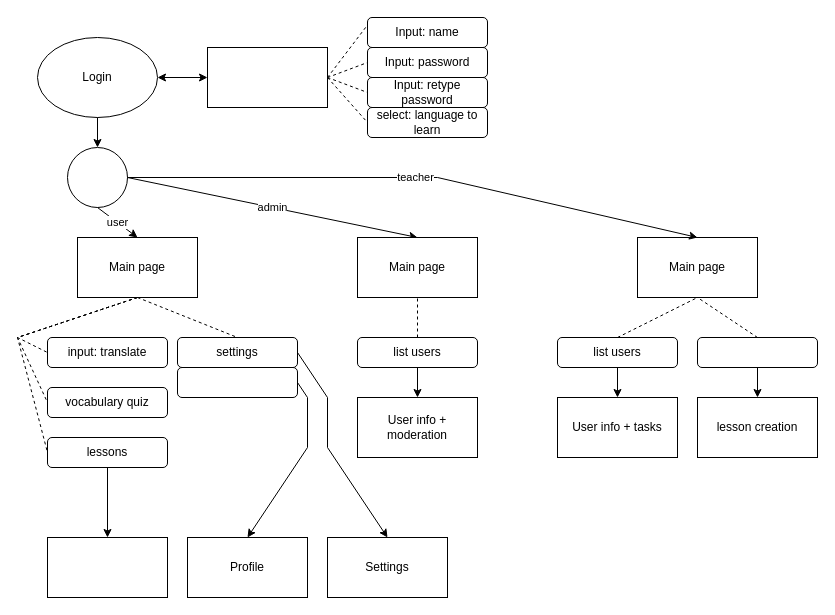
Image size: 835x615. Some labels were removed from this diagram. The shapes that lost their labels are listed below. From the top down, each one's centre as x and y in pixels, then its label:
At pixel 267 77: "Register".
At pixel 97 177: "auth".
At pixel 757 352: "create new lesson".
At pixel 237 382: "my profile".
At pixel 107 567: "Lesson".
